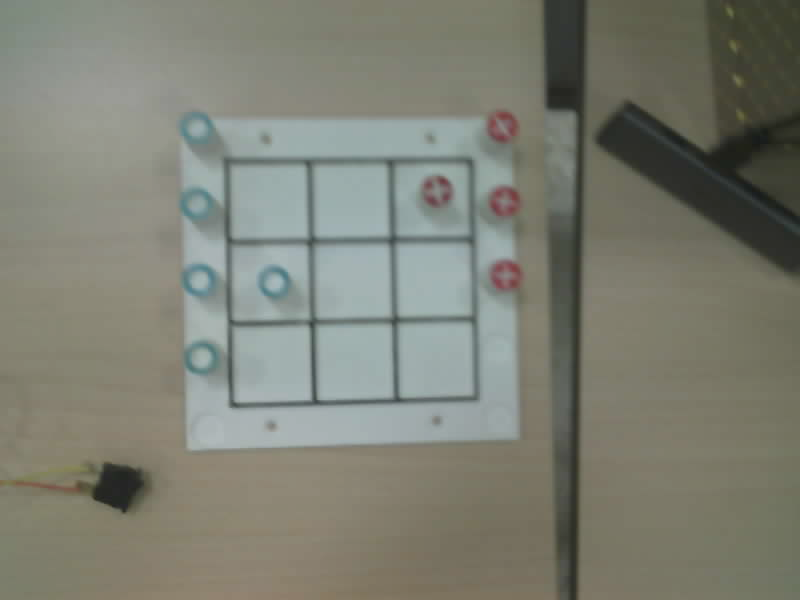blue circle: (179, 112, 214, 144), (182, 264, 216, 296), (184, 342, 218, 374), (180, 188, 213, 220), (258, 265, 290, 298)
board: (180, 112, 520, 449)
cells: (232, 325, 311, 404), (315, 324, 393, 401), (230, 244, 309, 320), (397, 322, 474, 399), (230, 163, 307, 239), (314, 243, 391, 318), (312, 163, 389, 238), (396, 242, 473, 316), (395, 162, 471, 236)
grid: (224, 157, 479, 407)
red cross: (487, 110, 518, 142), (422, 175, 453, 206), (490, 259, 521, 290), (489, 186, 520, 216)
